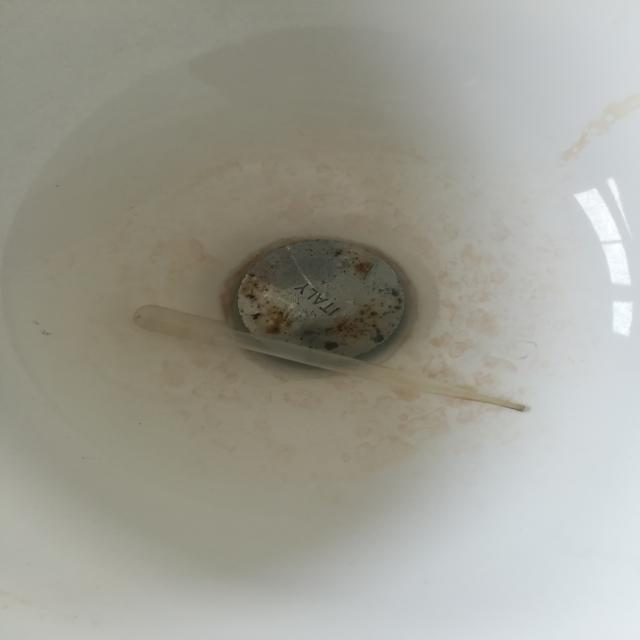Pipette: (110, 269, 550, 482)
